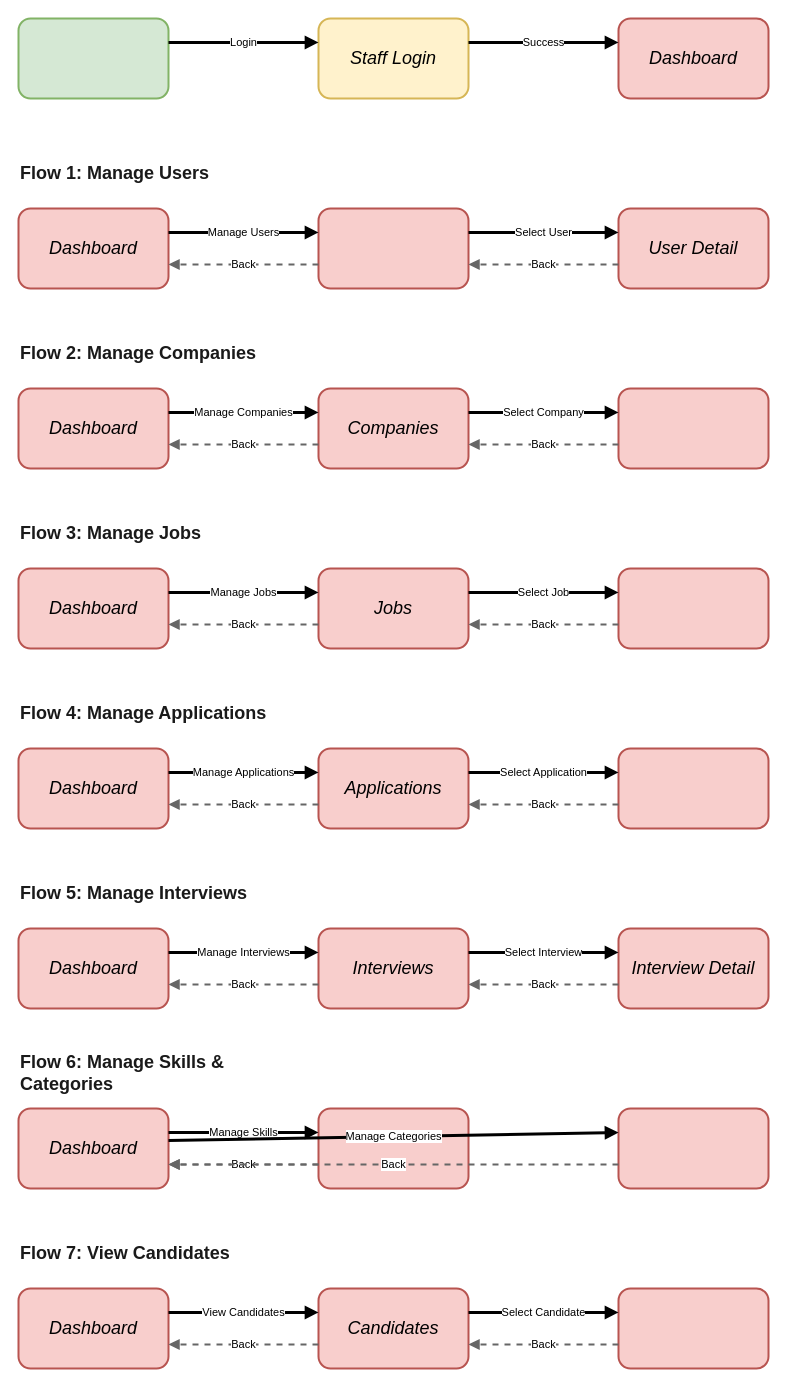
This 786x1386 diagram has some shape labels left out. Here are the shapes that lost their labels. From the top down, the centre of each, then its label:
At (93,58): "Entry Point".
At (393,248): "Users".
At (693,428): "Company Detail".
At (693,608): "Job Detail".
At (693,788): "Application Detail".
At (393,1148): "Skills".
At (693,1148): "Categories".
At (693,1328): "Candidate Profile".
